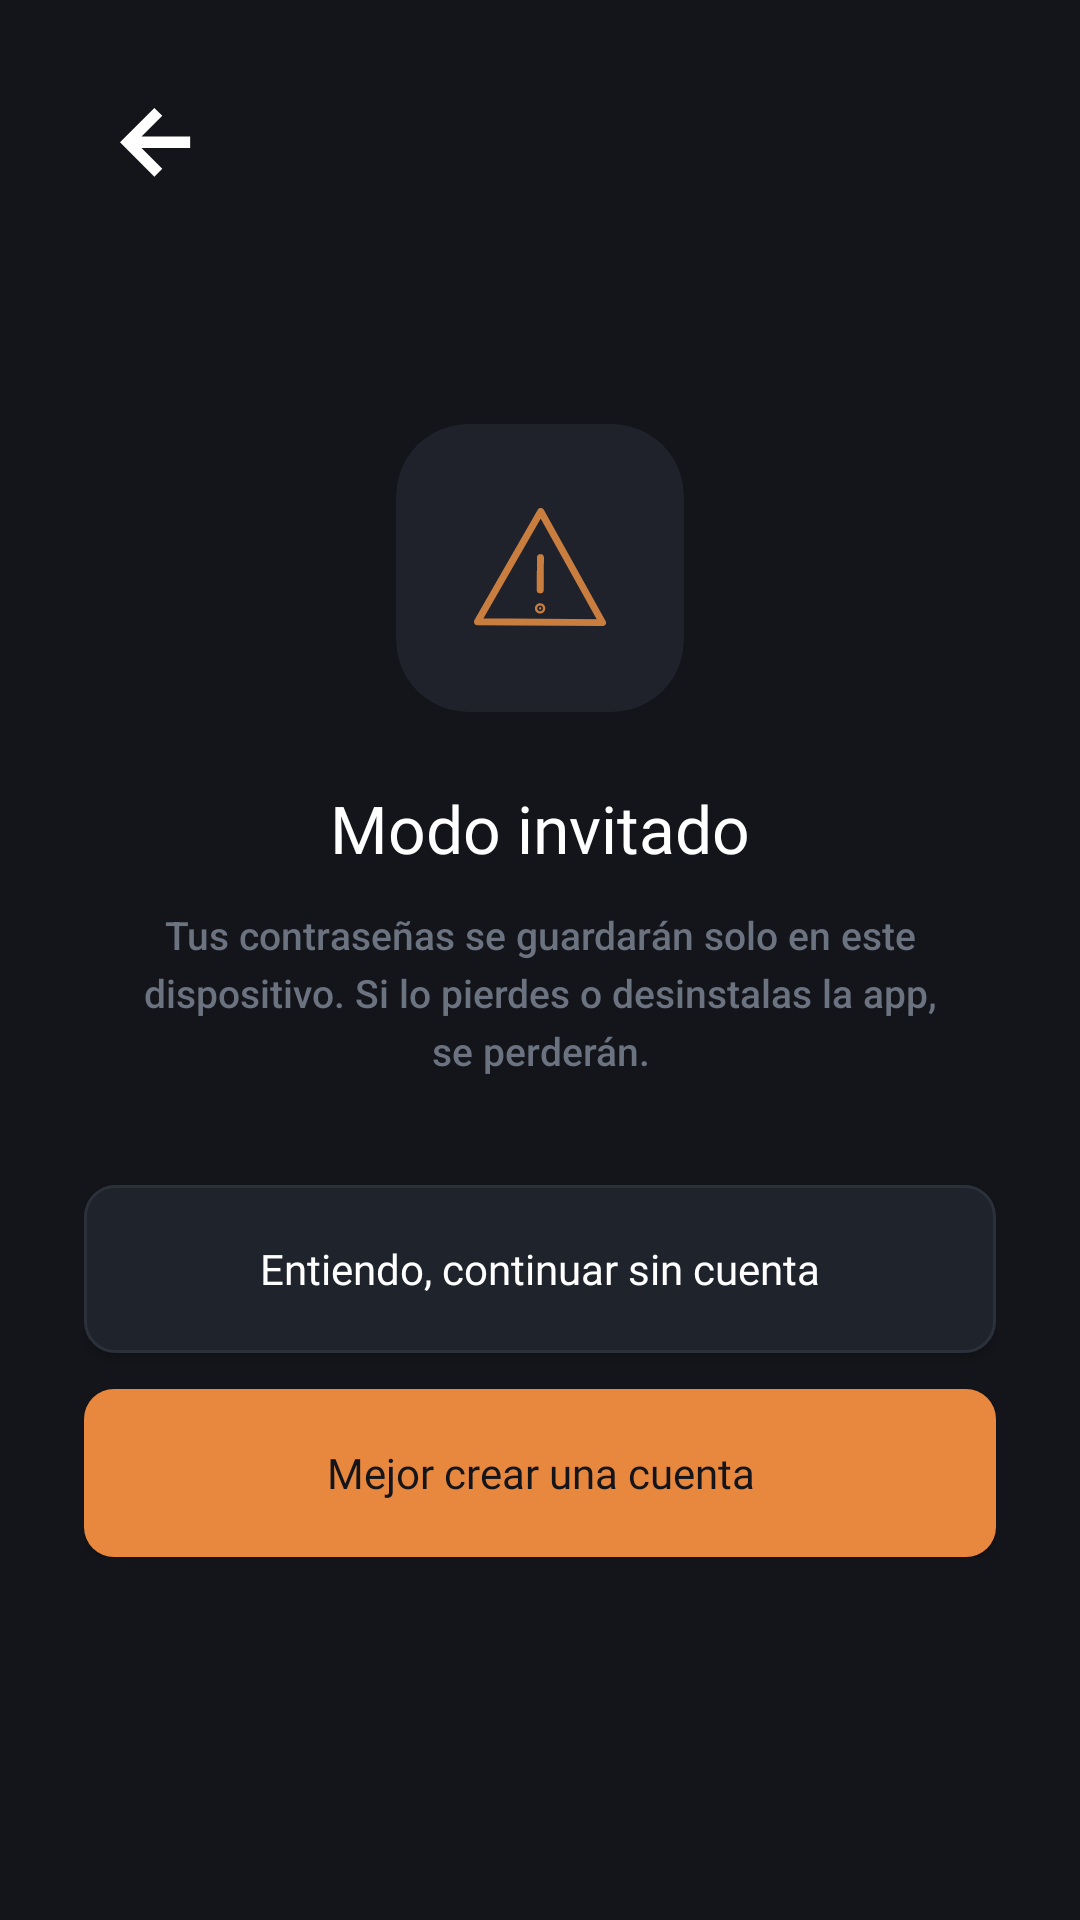

Icon bounding boxes for this 1080 x 1920 phone screenshot, format region(x1, y1, x2, y2):
Advertencia: region(474, 508, 606, 626)
Volver: region(120, 108, 191, 177)
